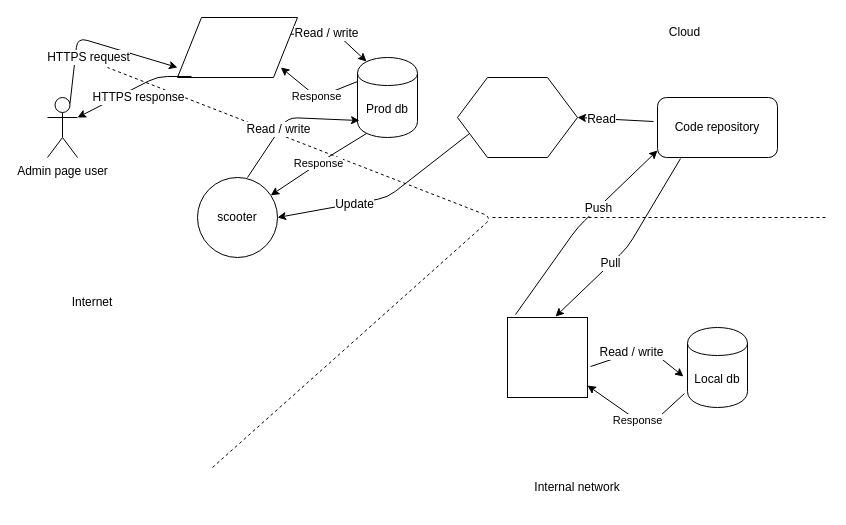
The diagram is 846 pixels wide and 525 high, and some of its shapes have lost their labels. Here are the shapes that lost their labels. From the top down, the box of each, then its label:
(176, 16, 298, 78): Admin page
(456, 76, 578, 158): Jenskins
(506, 316, 588, 398): Workstations
